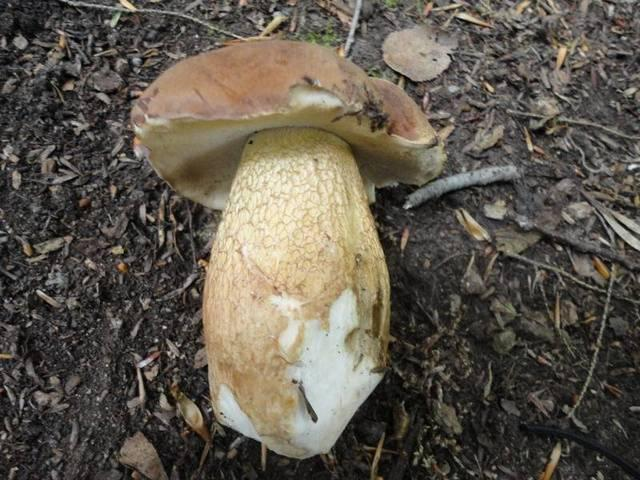Non-edible Mushroom: (128, 36, 448, 463)
